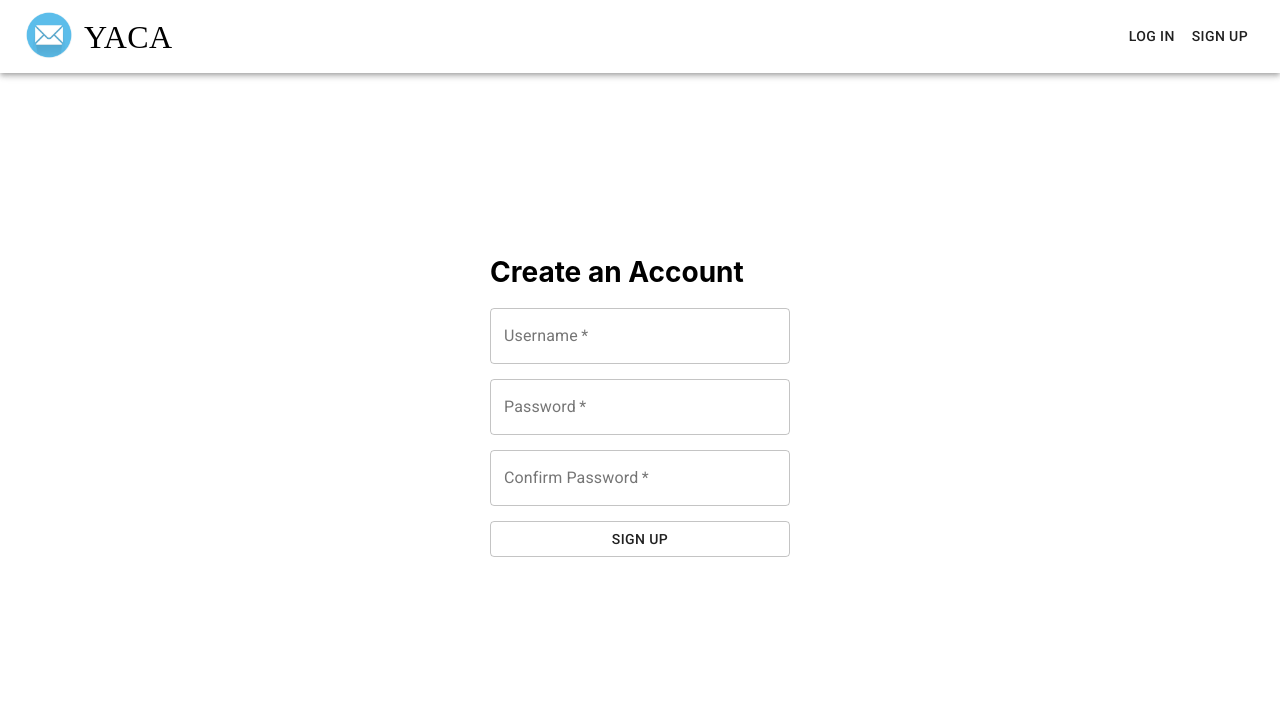
CreateAccountPage component after each input › should return The username needs to be at least 3 characters. when username = a
Type "a" into the field with test id "create-page-username-input" at (640, 336), box [490,308,790,364]
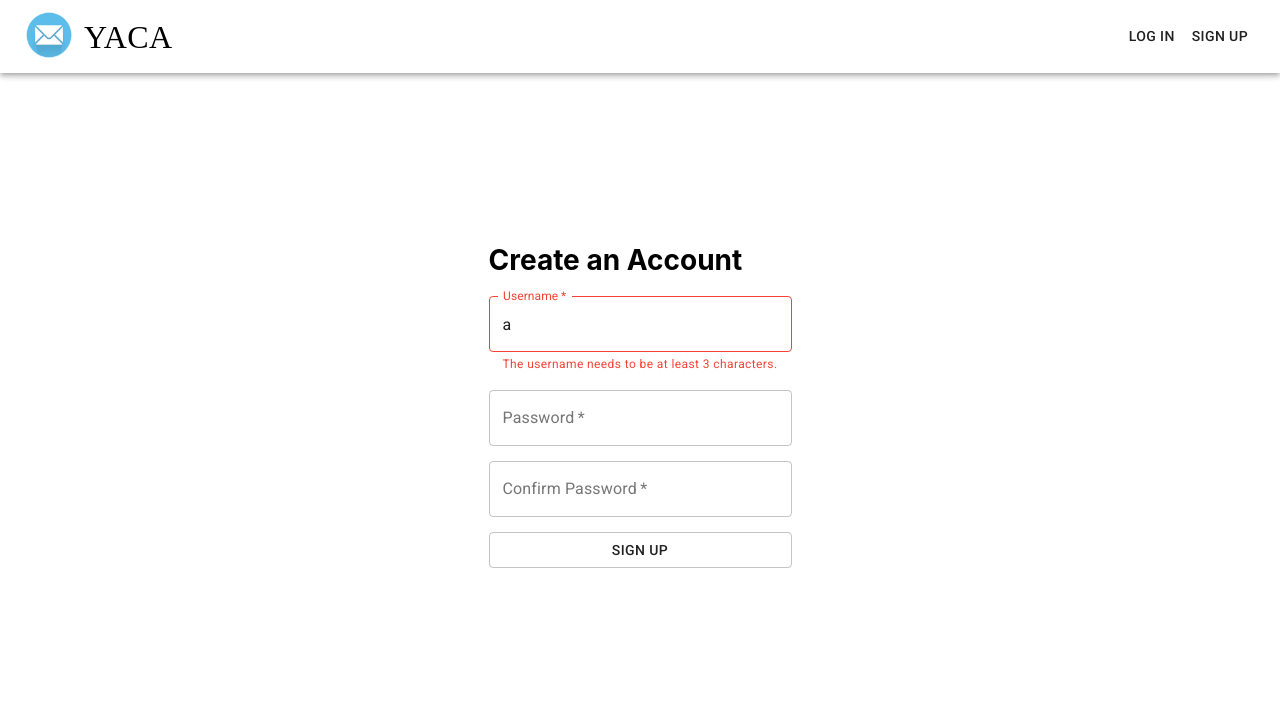
Result: the text with test id "create-page-username-helper" reads "The username needs to be at least 3 characters." at [502,357,778,371]
